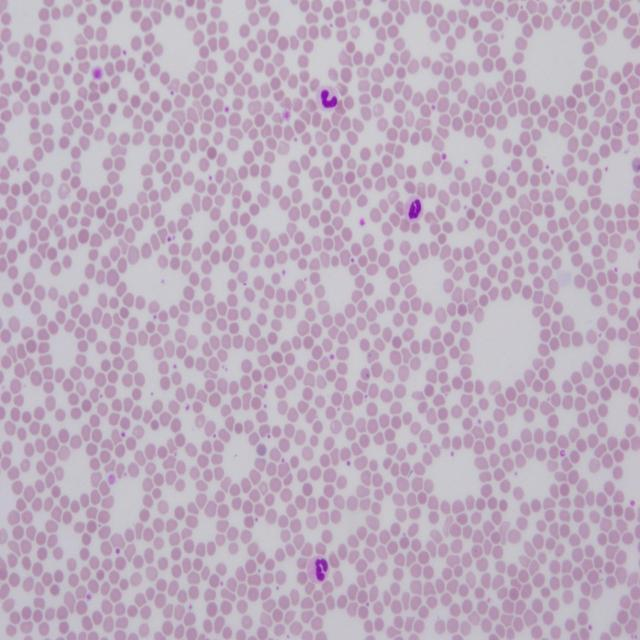cell: (316, 86, 340, 110), (308, 558, 329, 583), (404, 198, 422, 222)
